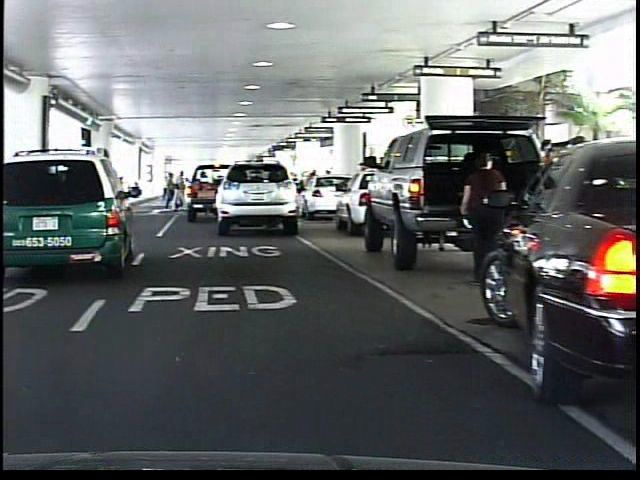person: (450, 150, 509, 280)
